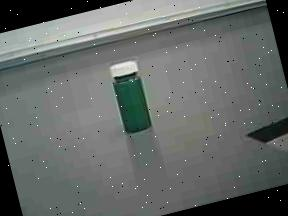Bottle C: (96, 49, 164, 140)
